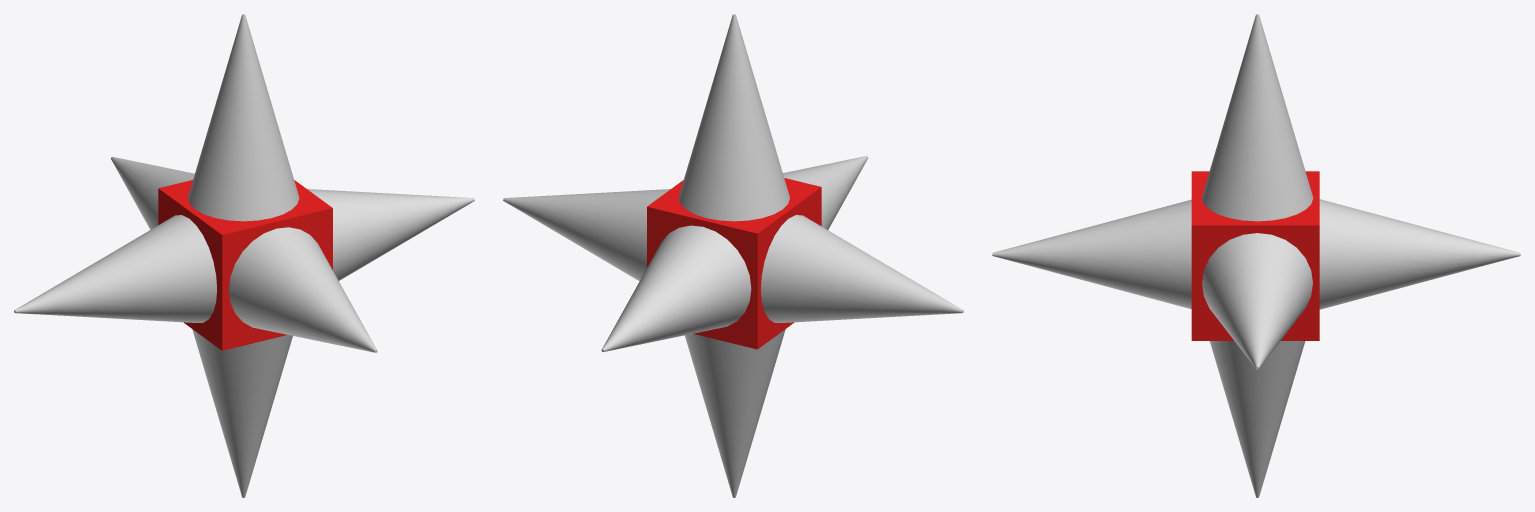
Rendered from Spike.FBX.
The picture shows the model from 3 angles, left to right: view 1: azimuth 30°, elevation 25°; view 2: azimuth 150°, elevation 25°; view 3: azimuth 270°, elevation 25°; orthographic projection.
Parts seen in each view (by area): view 1: Cone004, Cone002, Cone005, Box001, Cone001, Cone003, Cone006; view 2: Cone004, Cone002, Cone006, Box001, Cone001, Cone003, Cone005; view 3: Cone004, Cone006, Cone005, Cone003, Box001, Cone001.
Boxes of the visible parts, x1=… form: Cone004: x1=188, y1=14, x2=299, y2=221; Cone002: x1=14, y1=215, x2=216, y2=322; Cone005: x1=229, y1=227, x2=377, y2=352; Box001: x1=158, y1=180, x2=332, y2=350; Cone001: x1=192, y1=329, x2=292, y2=497; Cone003: x1=307, y1=189, x2=474, y2=280; Cone006: x1=111, y1=156, x2=194, y2=229; Cone004: x1=678, y1=14, x2=789, y2=221; Cone002: x1=761, y1=215, x2=963, y2=322; Cone006: x1=601, y1=225, x2=751, y2=351; Box001: x1=647, y1=178, x2=821, y2=349; Cone001: x1=685, y1=329, x2=785, y2=497; Cone003: x1=503, y1=189, x2=670, y2=280; Cone005: x1=783, y1=156, x2=868, y2=229; Cone004: x1=1201, y1=14, x2=1313, y2=221; Cone006: x1=1319, y1=199, x2=1520, y2=309; Cone005: x1=992, y1=199, x2=1191, y2=309; Cone003: x1=1202, y1=233, x2=1312, y2=369; Box001: x1=1191, y1=171, x2=1319, y2=340; Cone001: x1=1209, y1=341, x2=1305, y2=497.
Size of the model in its own units: 20.74 by 20.84 by 20.67.
